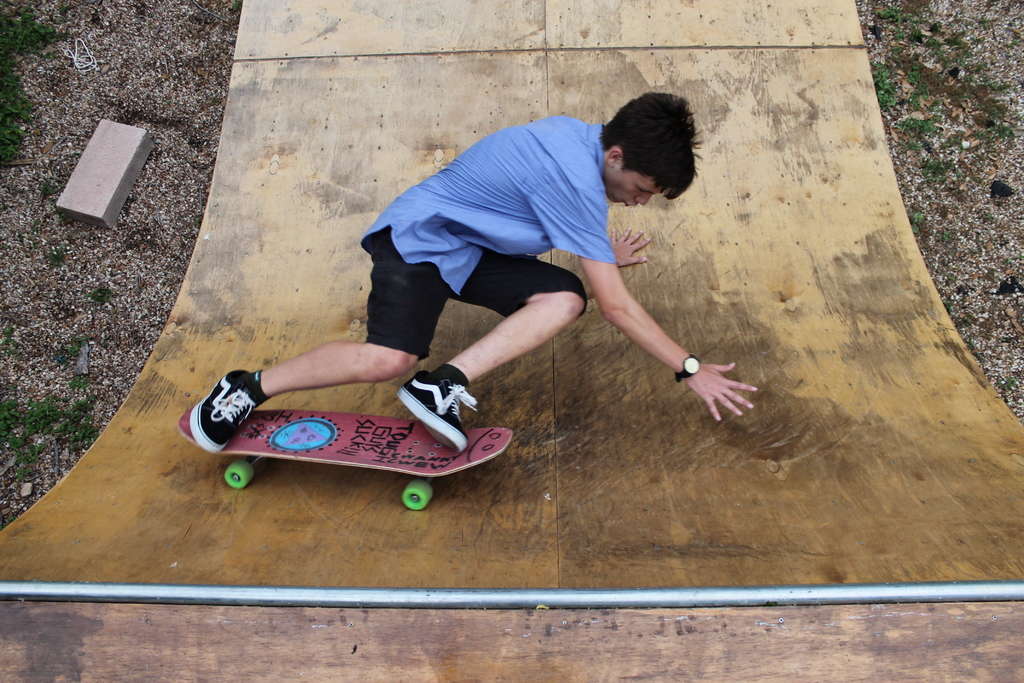Person: (190, 91, 757, 453)
